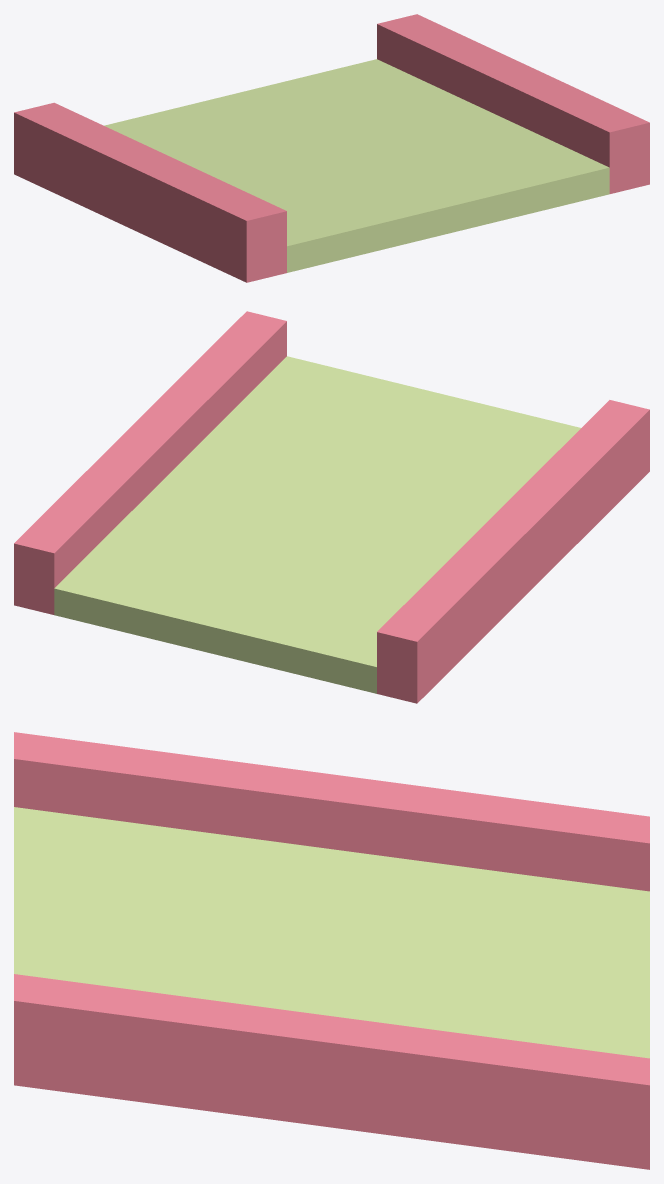
Rendered from rampA.fbx.
3 renders of one model, top to bottom at view 1: azimuth 30°, elevation 25°; view 2: azimuth 150°, elevation 25°; view 3: azimuth 270°, elevation 25°, orthographic. The views are drawn at different scales.
Parts seen in each view (by area): view 1: rampA; view 2: rampA; view 3: rampA.
Part boxes in pixels (x1,y1,x2,y2): rampA: (14,14,649,282); rampA: (14,311,649,703); rampA: (14,732,649,1169).
Bounding box in the file's own units: 99.99 × 29.33 × 99.99.
